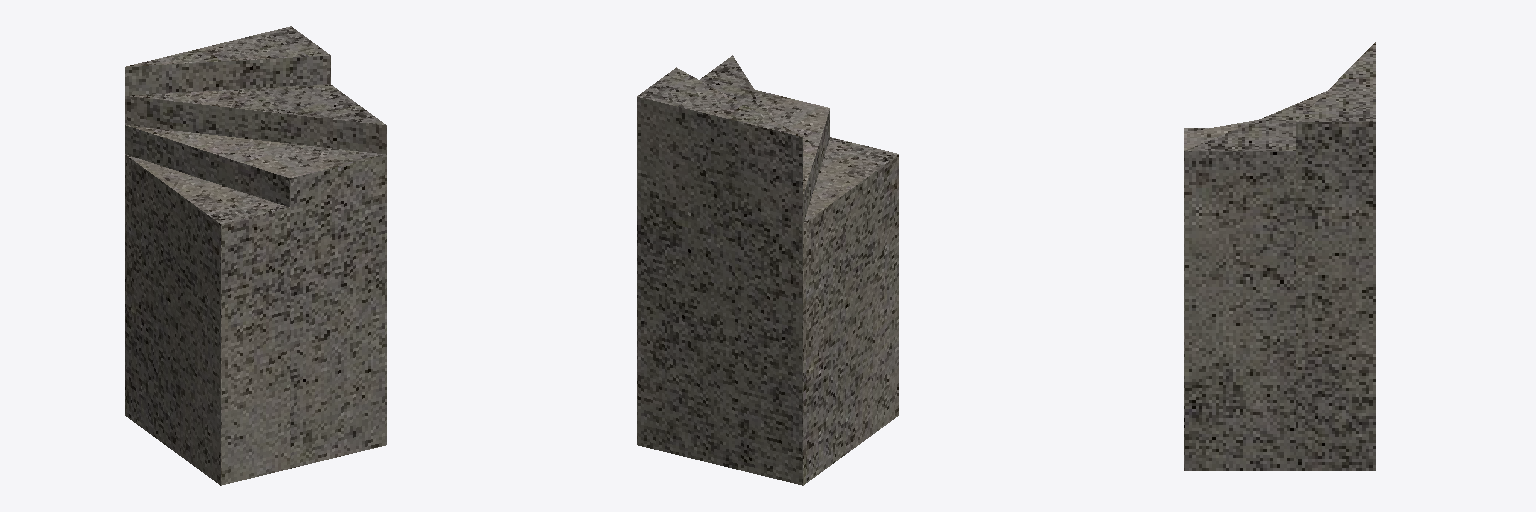
3 views of the same model, side by side, from view 1: azimuth 30°, elevation 25°; view 2: azimuth 150°, elevation 25°; view 3: azimuth 270°, elevation 25° (orthographic).
Bounding box in the file's own units: 1 × 2 × 1.
1 materials, 1 textured.